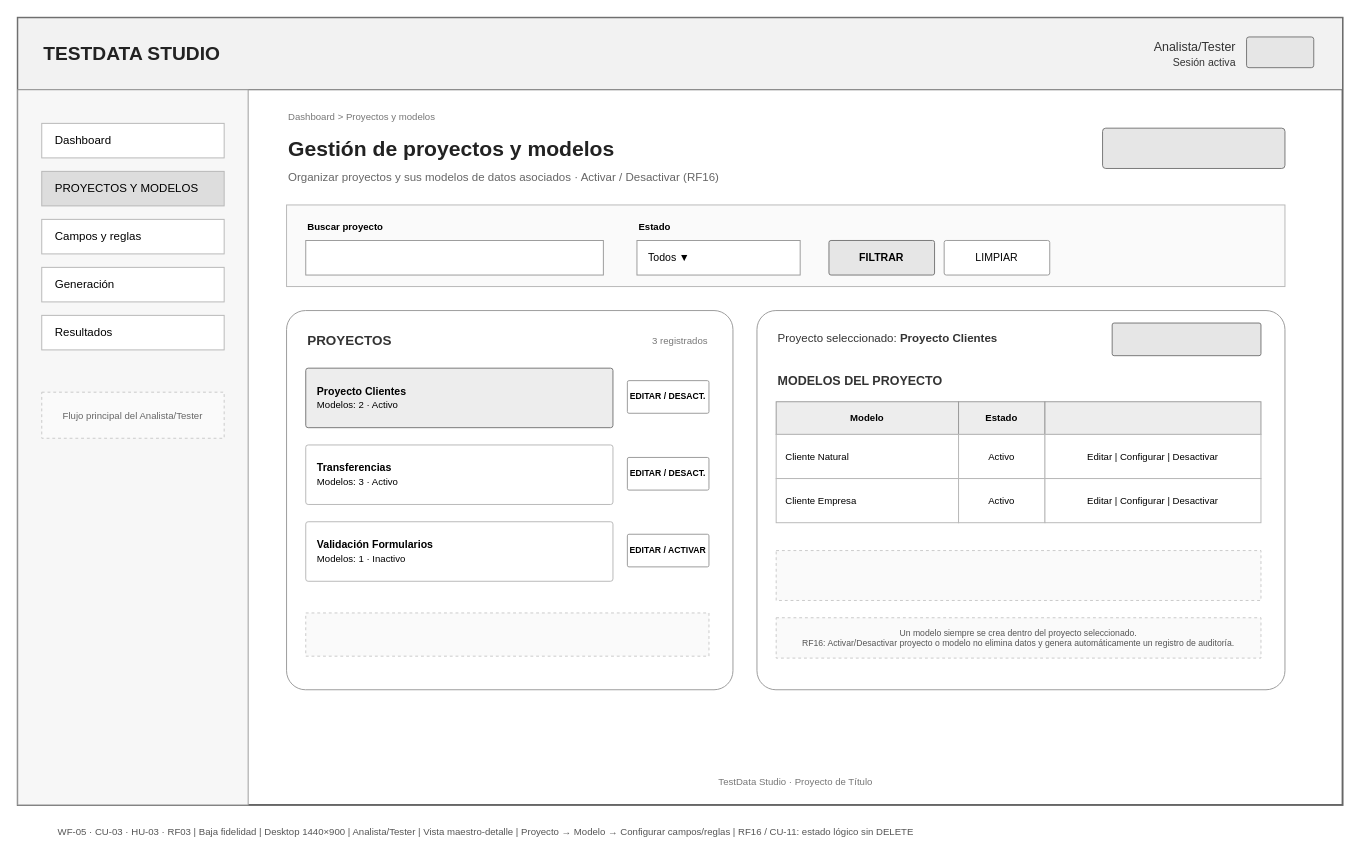
The diagram is 1359 pixels wide and 859 high, and some of its shapes have lost their labels. Each missing label, with the centre of its shape:
+ NUEVO MODELO: point (1186, 339)
+ NUEVO PROYECTO: point (1193, 147)
Acciones: point (1152, 417)
Estado alternativo: “No se encontraron proyectos”.: point (507, 634)
Nombre del proyecto: point (454, 257)
SALIR: point (1280, 52)
Si el proyecto no posee modelos, mostrar “Aún no existen modelos asociados”.: point (1018, 575)
